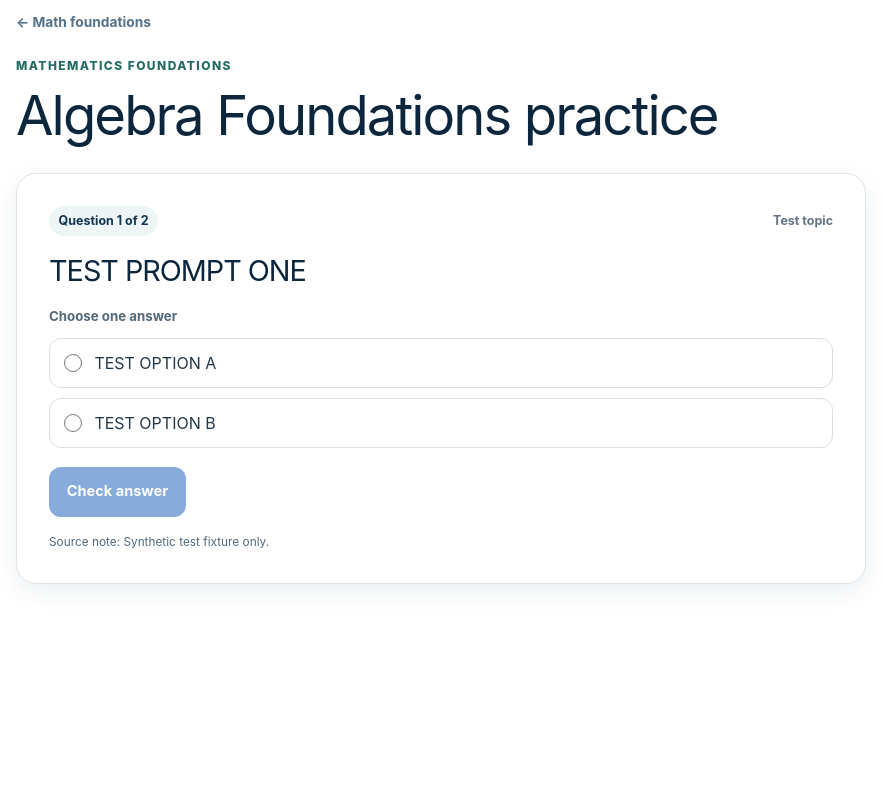
Test case: practice flow › checks answers, reveals steps, advances, and shows the score
Expected: the heading "TEST PROMPT ONE" is shown, [49,253,306,288]
Click the radio button labelled "TEST OPTION B".
click(73, 423)  # box [64,414,82,432]
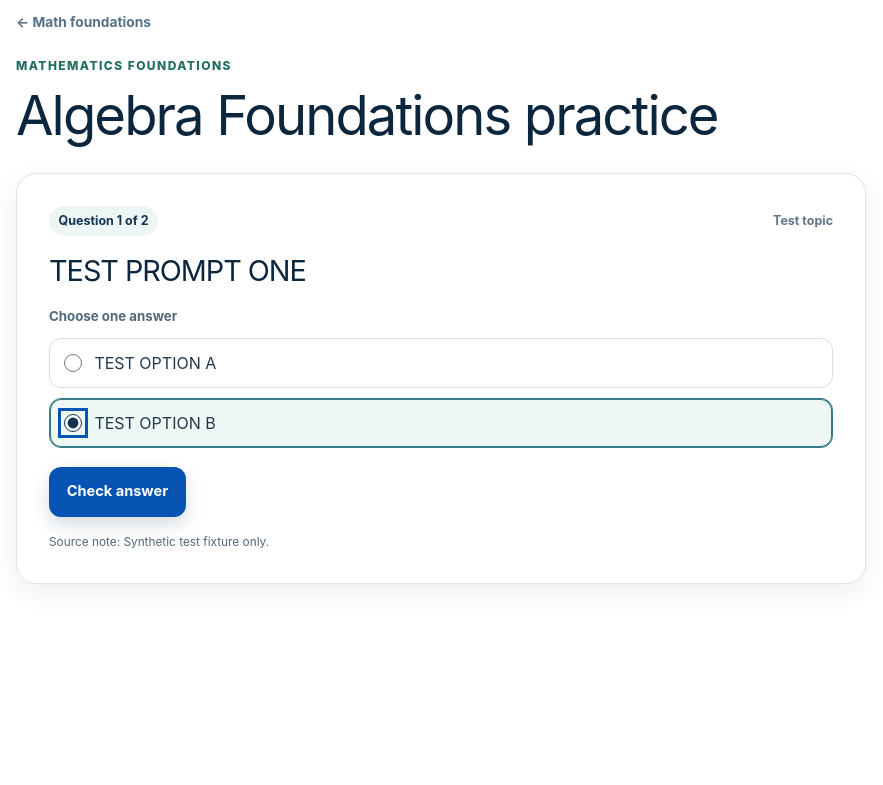
Click the button "Check answer".
click(117, 492)  # box [49,467,186,516]
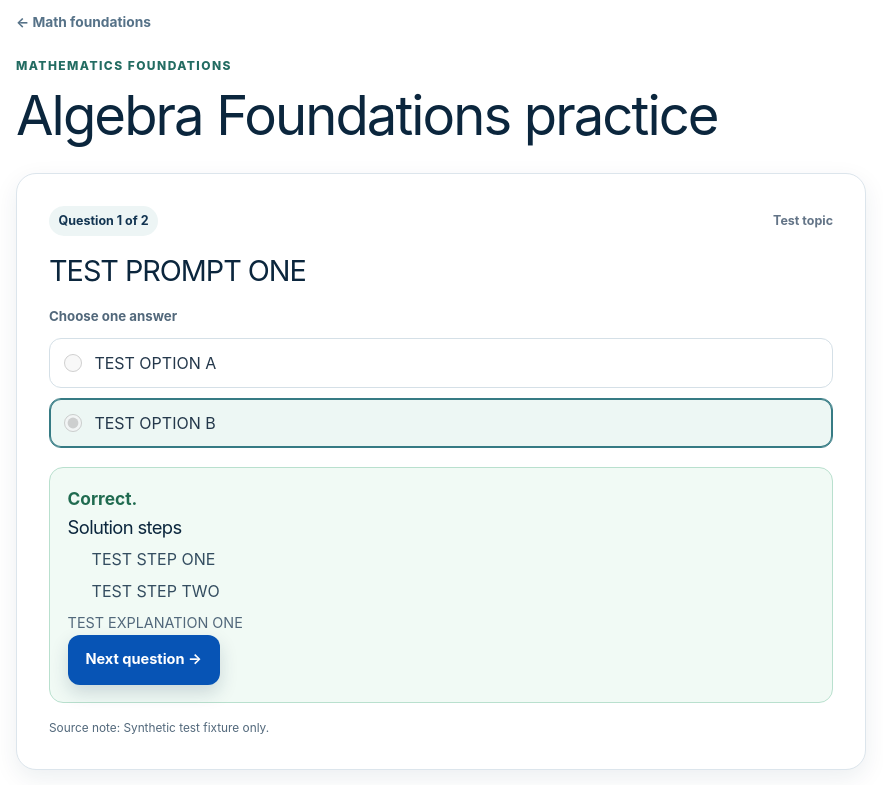
Now the message shows "Correct.", box [68,488,137,509]
Now the list item "TEST STEP ONE" is shown, box [92,549,215,569]
Click the button "Next question →".
click(144, 660)  # box [68,635,220,684]
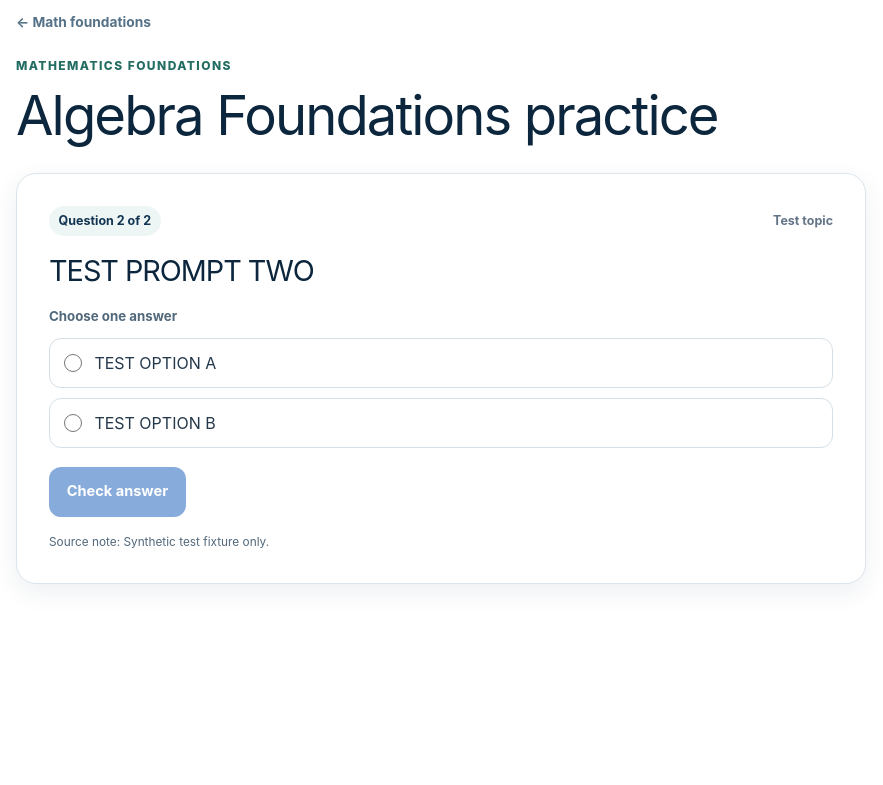
Now the heading "TEST PROMPT TWO" is shown, box [49,253,314,288]
Click the radio button labelled "TEST OPTION A".
click(73, 363)  # box [64,354,82,372]
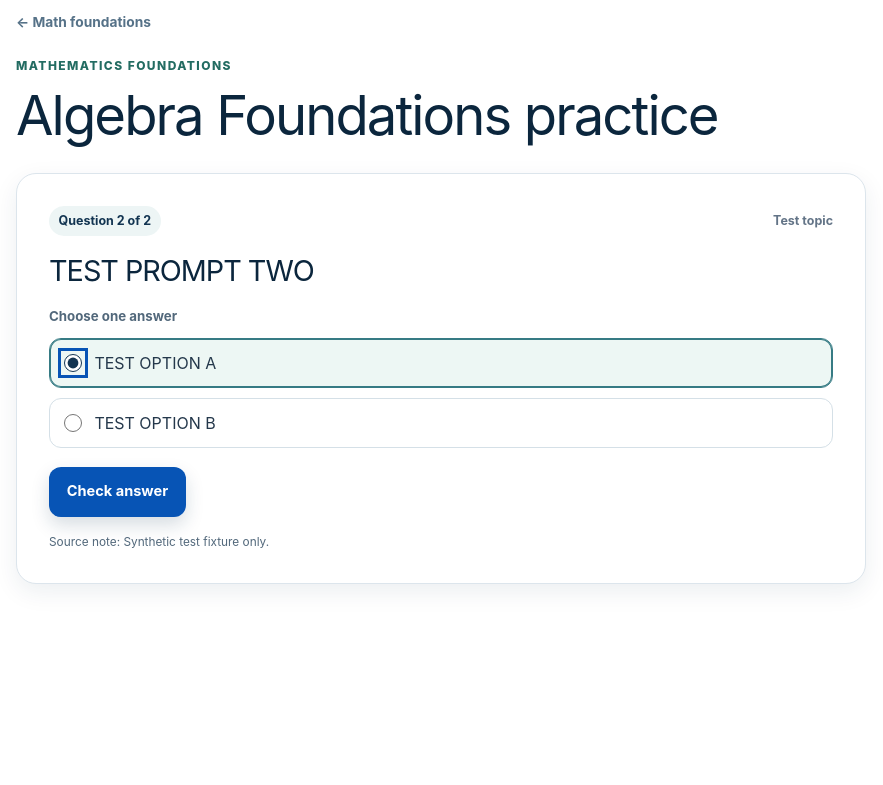
Click the button "Check answer".
click(117, 492)  # box [49,467,186,516]
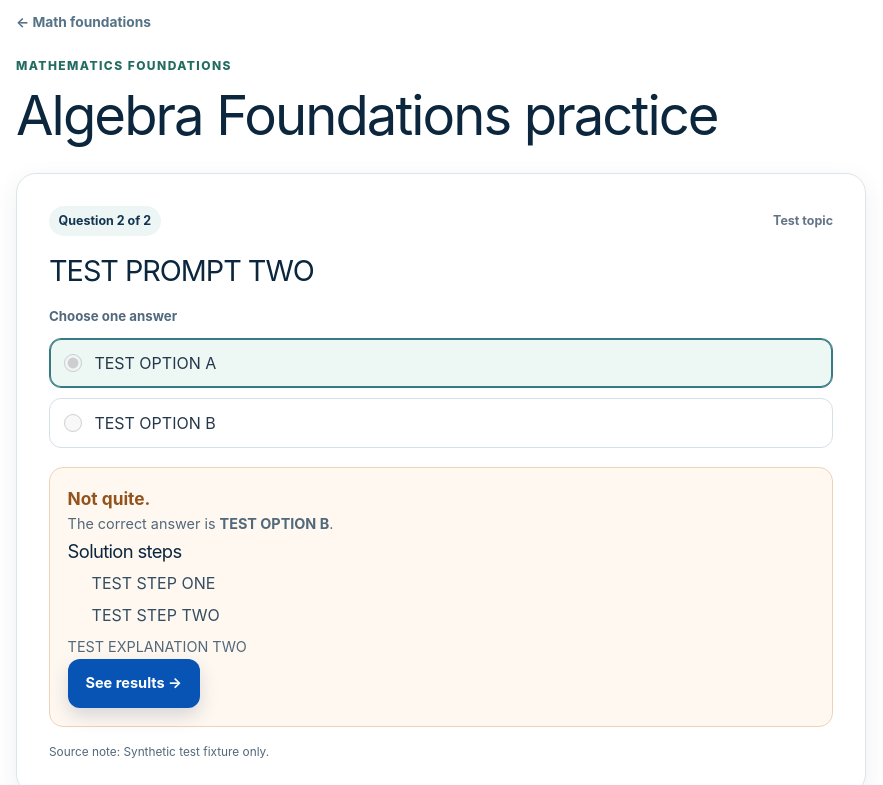
Now the message shows "Not quite.", box [68,488,150,509]
Now the message shows "The correct answer is TEST OPTION B.", box [49,467,833,727]
Click the button "See results →".
click(134, 684)  # box [68,659,200,708]
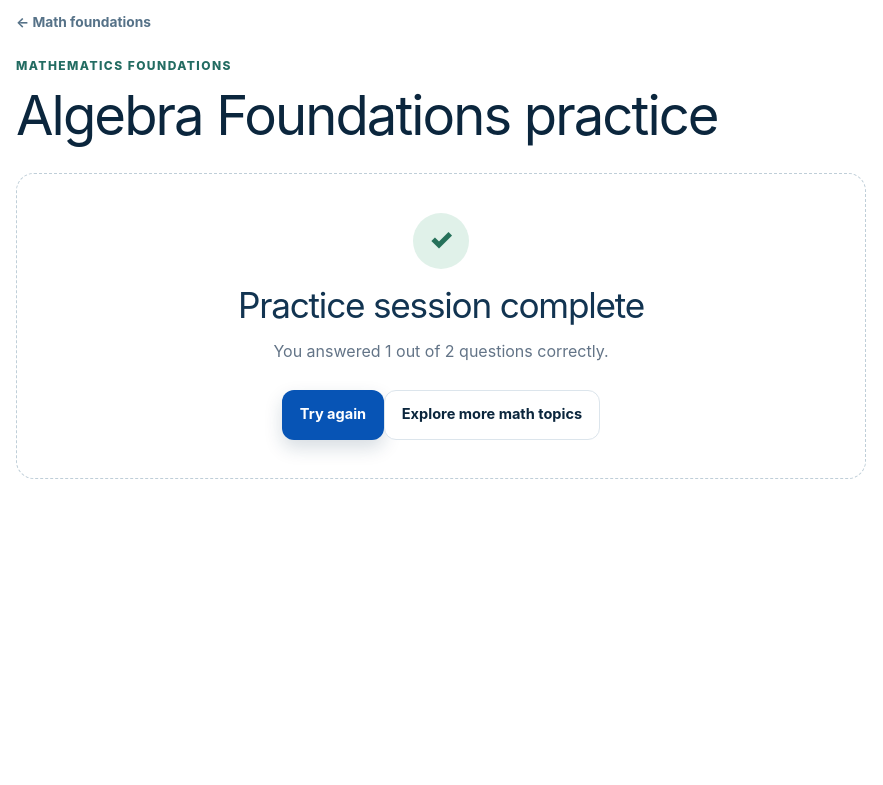
Now the heading "Practice session complete" is shown, box [238,284,644,326]
Now the text "You answered 1 out of 2 questions correctly." is shown, box [273,341,608,361]
